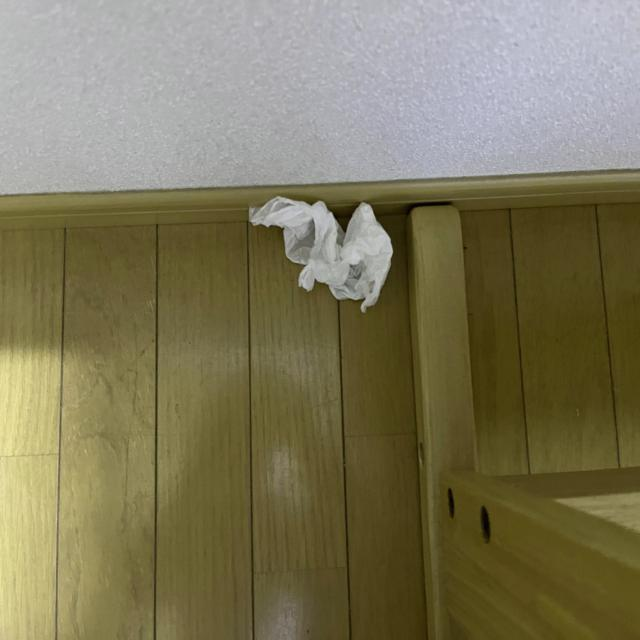Paper: (241, 160, 413, 313)
